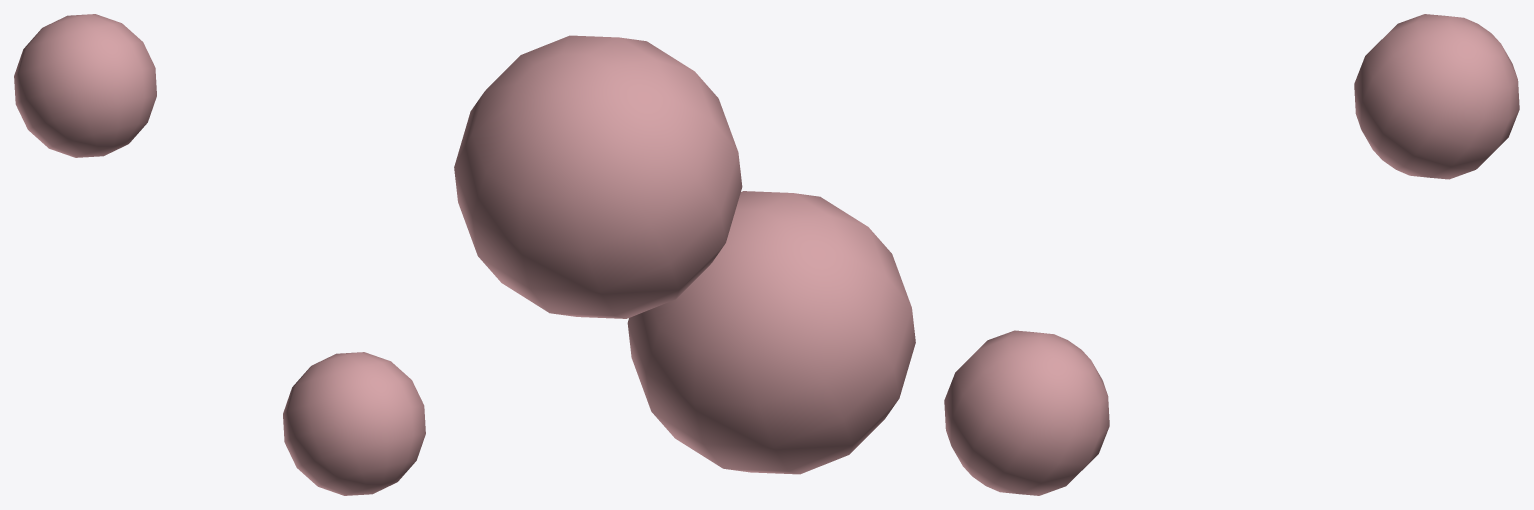
The picture shows the model from 3 angles, left to right: view 1: azimuth 30°, elevation 25°; view 2: azimuth 150°, elevation 25°; view 3: azimuth 270°, elevation 25°; orthographic projection. The views are drawn at different scales.
Parts seen in each view (by area): view 1: ZA_b5161367253b6a5c; view 2: ZA_b5161367253b6a5c; view 3: ZA_b5161367253b6a5c.
Part boxes in pixels (bbox=[...]): ZA_b5161367253b6a5c: bbox=[14, 14, 425, 495]; ZA_b5161367253b6a5c: bbox=[454, 35, 915, 474]; ZA_b5161367253b6a5c: bbox=[944, 14, 1519, 495].
Size of the model in its own units: 0.00448 by 0.00712 by 0.00893.
